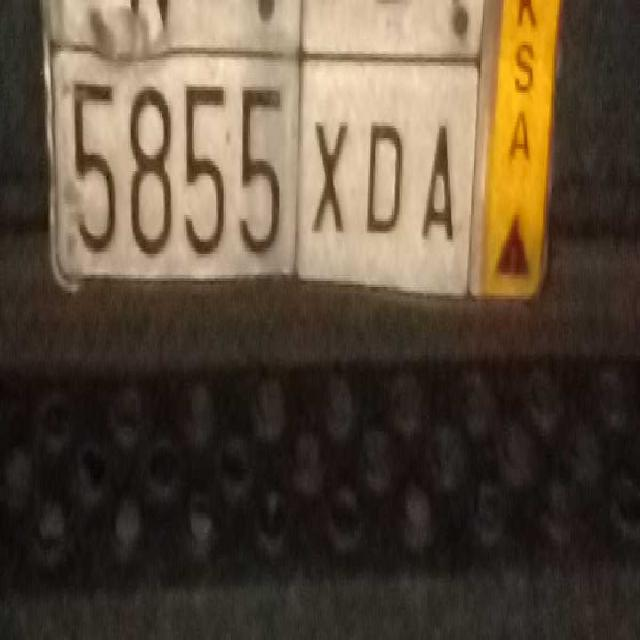license_plate: (50, 39, 468, 305)
